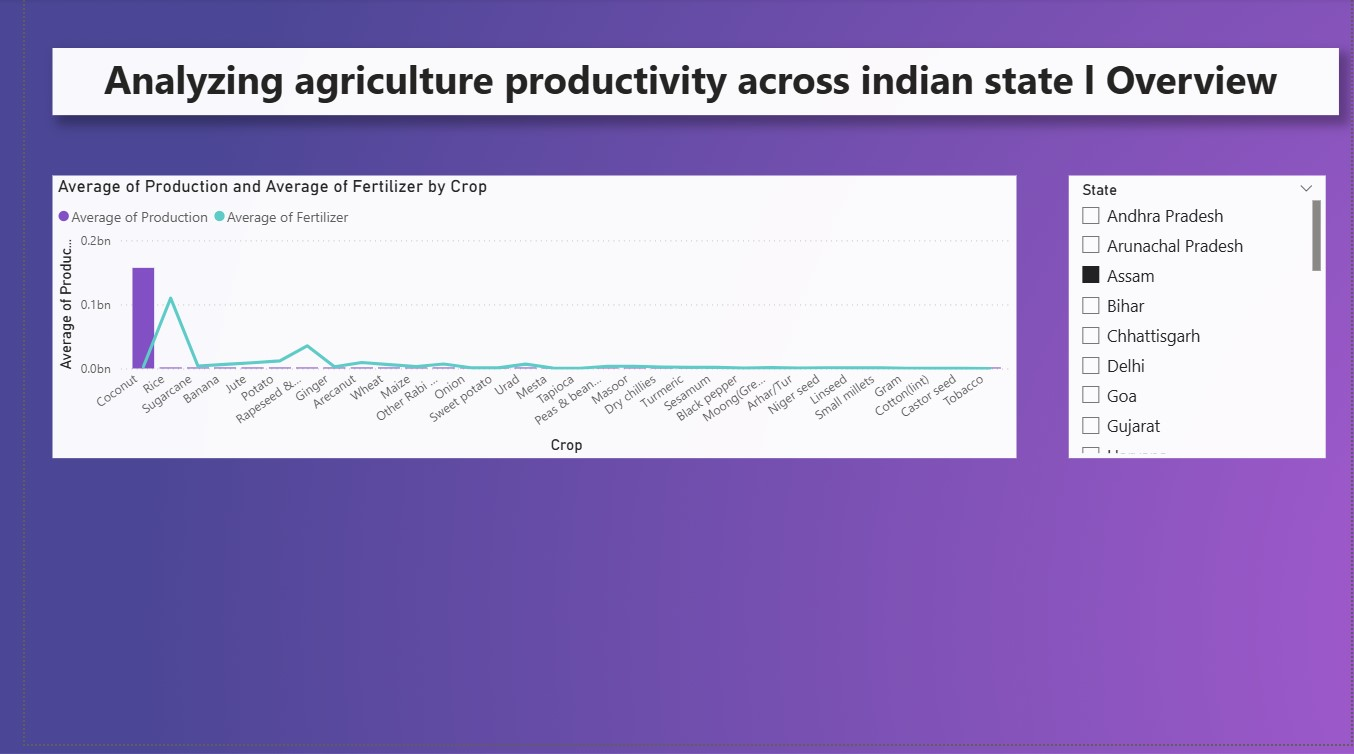

The dashboard page shown, as its layout file describes it:
{"tool":"powerbi","page":{"name":"FERTILIZER","canvas":[1280,720],"ordinal":1},"visuals":[{"type":"textbox","box":[26.1,48,1241.9,64.5],"z":0},{"type":"lineStackedColumnComboChart","fields":{"Category":["e7fa34f53e7a4120831.Crop"],"Y":["Avg(e7fa34f53e7a4120831.Production)"],"Y2":["Avg(e7fa34f53e7a4120831.Fertilizer)"]},"box":[26.1,171.5,930.4,273.1],"z":1},{"type":"slicer","fields":{"Values":["e7fa34f53e7a4120831.State"]},"box":[1007.2,171.5,248.4,273.1],"z":2}]}

Visuals, with their boxes in screenshot pixels (x1, y1, x2, y2), scaled from the page's 1280x720 canvas onto the 1354x754 screenshot:
textbox: [left=28, top=50, right=1341, bottom=118]
lineStackedColumnComboChart - e7fa34f53e7a4120831.Crop x Avg(e7fa34f53e7a4120831.Production): [left=28, top=180, right=1012, bottom=466]
slicer - e7fa34f53e7a4120831.State: [left=1065, top=180, right=1328, bottom=466]
